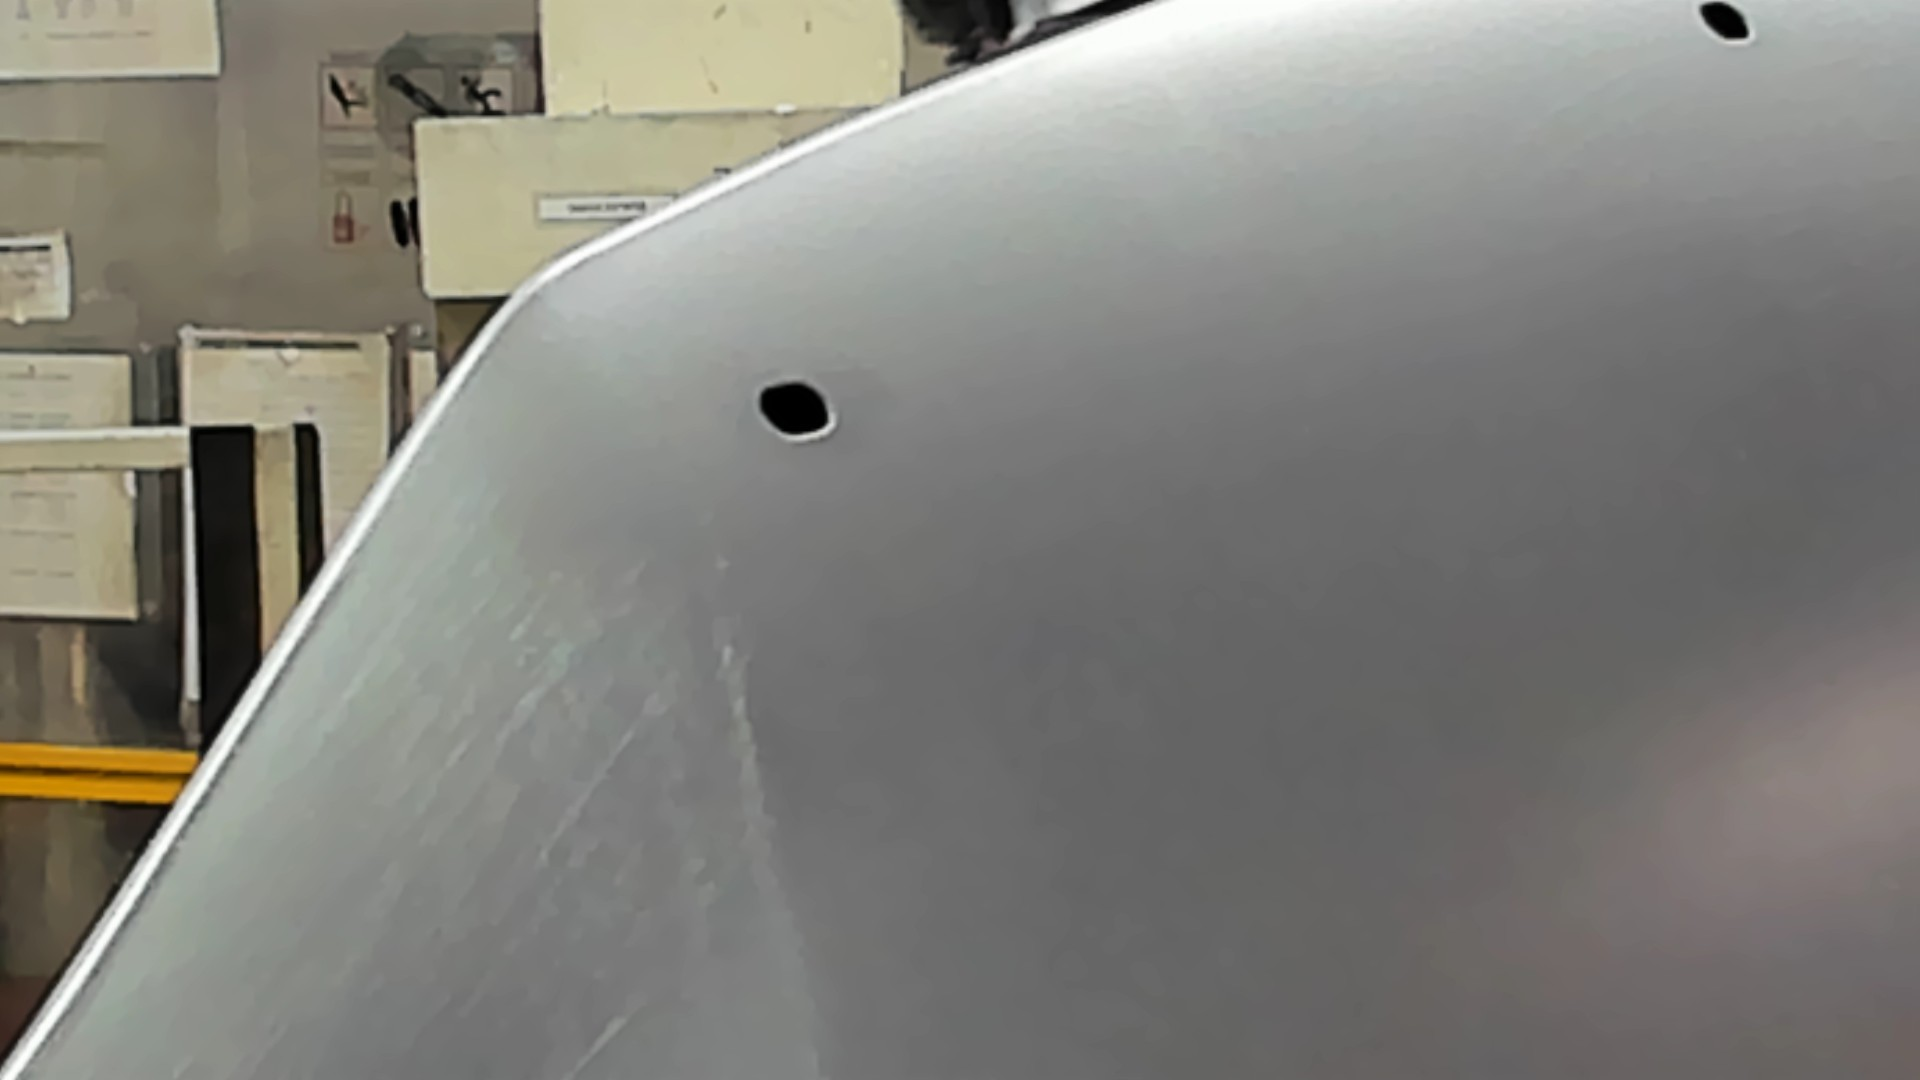amorfo: (752, 372, 845, 448), (1688, 1, 1764, 55)
capo: (928, 123, 1920, 1080)
